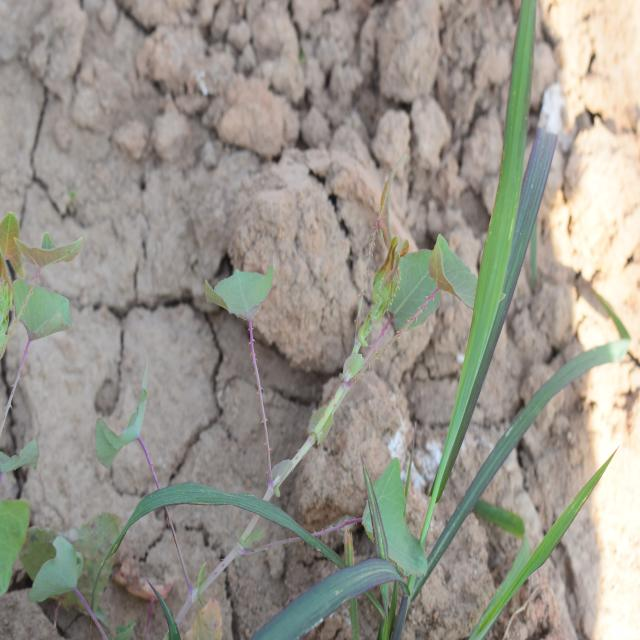Asiatic_Smartweed: (337, 172, 476, 386), (4, 194, 97, 394), (195, 250, 288, 340), (82, 382, 160, 460)
